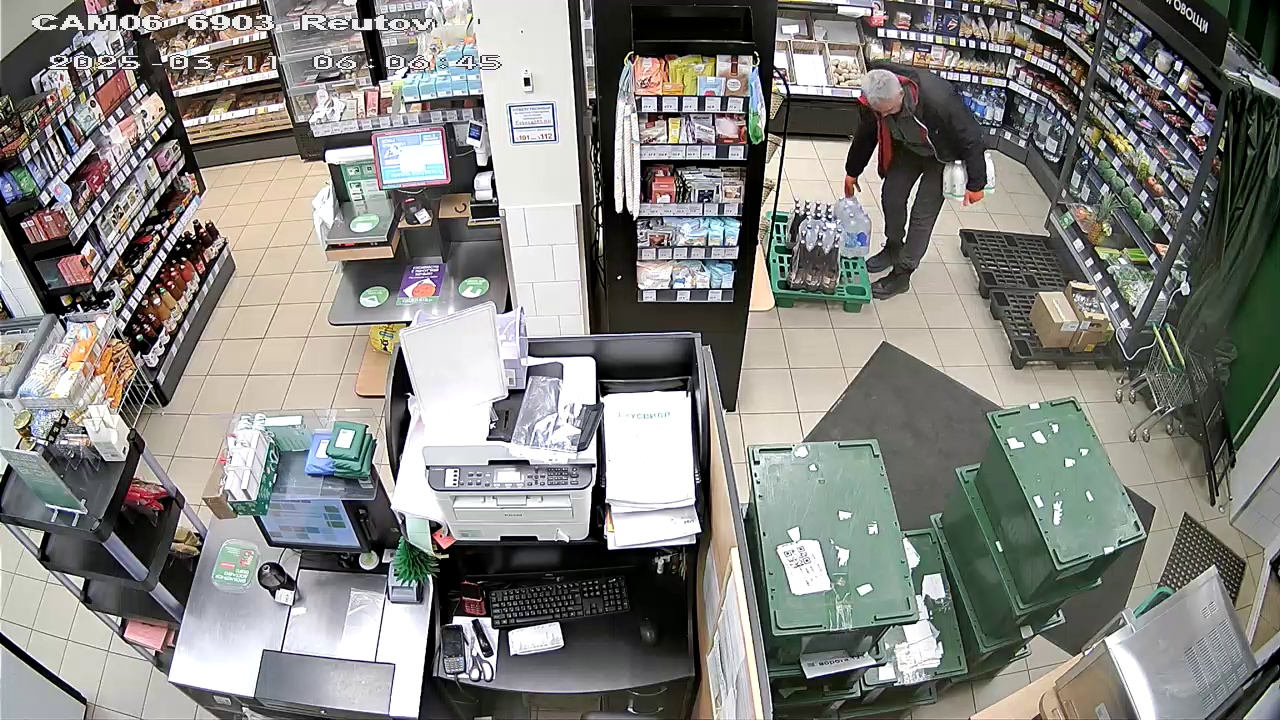Human: (837, 54, 982, 299)
pallet: (958, 229, 1118, 361)
